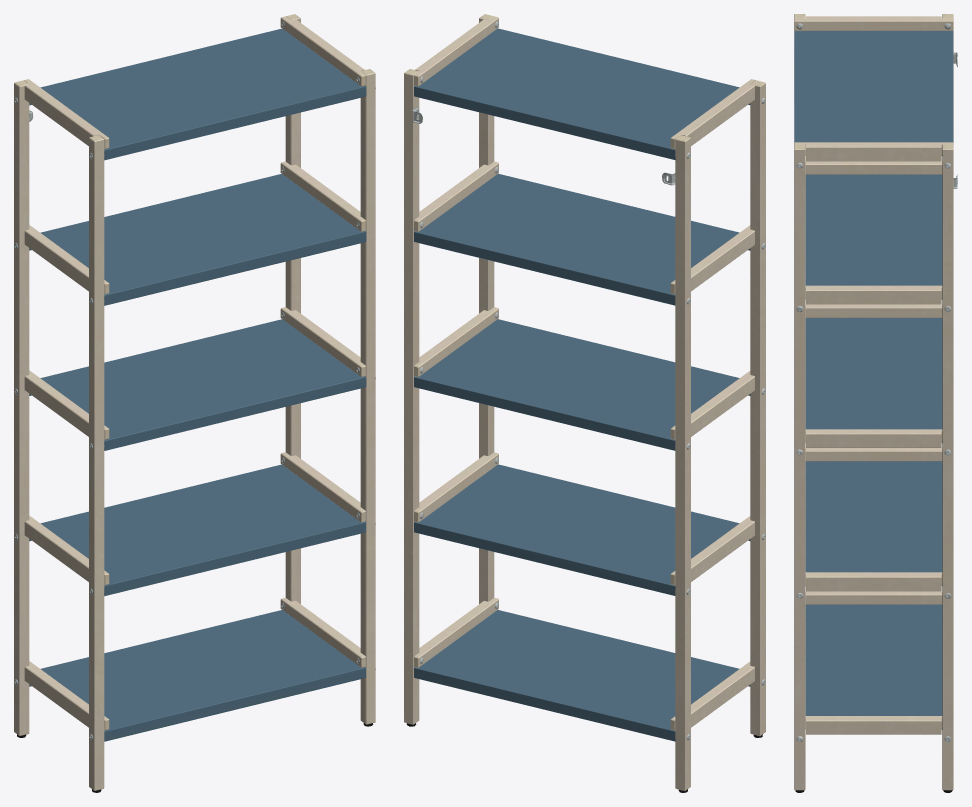
File: ekenabben_open_shelf_unit_aspen_blue.glb
The picture shows the model from 3 angles, left to right: view 1: azimuth 30°, elevation 25°; view 2: azimuth 150°, elevation 25°; view 3: azimuth 270°, elevation 25°; orthographic projection.
Visible parts, largest first — view 1: ASY_ART_90596393_S01_NV01; view 2: ASY_ART_90596393_S01_NV01; view 3: ASY_ART_90596393_S01_NV01.
Part boxes in pixels (<box>): ASY_ART_90596393_S01_NV01: <box>14,14,375,792</box>; ASY_ART_90596393_S01_NV01: <box>404,14,765,792</box>; ASY_ART_90596393_S01_NV01: <box>794,14,957,792</box>.
Bounding box in the file's own units: 0.6991 × 1.54 × 0.3537.
1 material, 1 textured.
